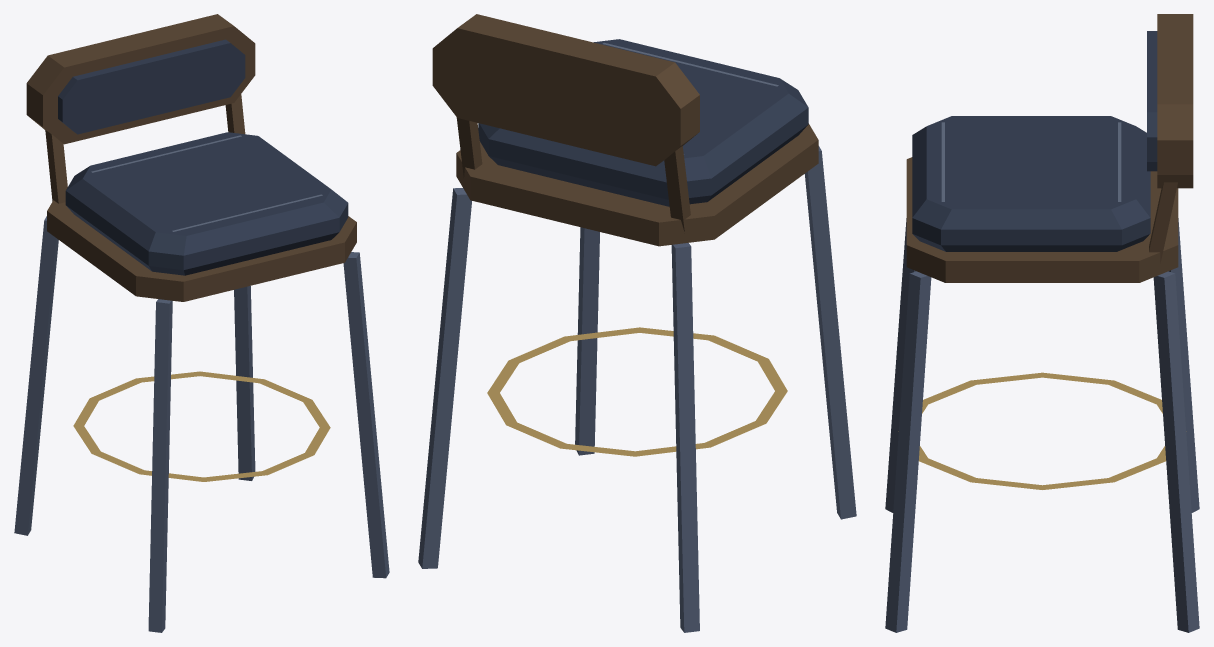
Rendered from res_bar_stool.glb.
3 views of the same model, side by side, from view 1: azimuth 30°, elevation 25°; view 2: azimuth 150°, elevation 25°; view 3: azimuth 270°, elevation 25° (orthographic). The views are drawn at different scales.
Visible parts, largest first — view 1: piped_cushion, low_back_stile, tapered_stool_leg, footrest, stitched_welt; view 2: low_back_stile, tapered_stool_leg, piped_cushion, footrest; view 3: piped_cushion, tapered_stool_leg, low_back_stile, footrest, stitched_welt.
Boxes of the visible parts, box(x1,y1,x2,y2) form: piped_cushion: box(58, 39, 348, 275); low_back_stile: box(26, 14, 356, 301); tapered_stool_leg: box(14, 216, 389, 632); footrest: box(73, 371, 330, 481); stitched_welt: box(91, 135, 322, 231); low_back_stile: box(432, 14, 818, 246); tapered_stool_leg: box(418, 146, 856, 632); piped_cushion: box(478, 39, 808, 206); footrest: box(487, 327, 787, 456); piped_cushion: box(912, 31, 1157, 251); tapered_stool_leg: box(885, 218, 1199, 632); low_back_stile: box(906, 14, 1193, 282); footrest: box(898, 372, 1186, 489); stitched_welt: box(941, 122, 1121, 201).
Size of the model in its own units: 0.56 by 1.04 by 0.58.
